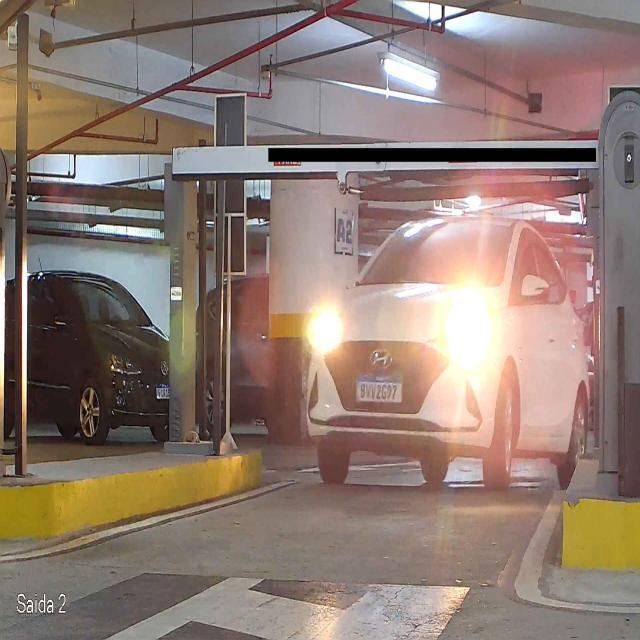mercosul_plate: (355, 371, 404, 404)
